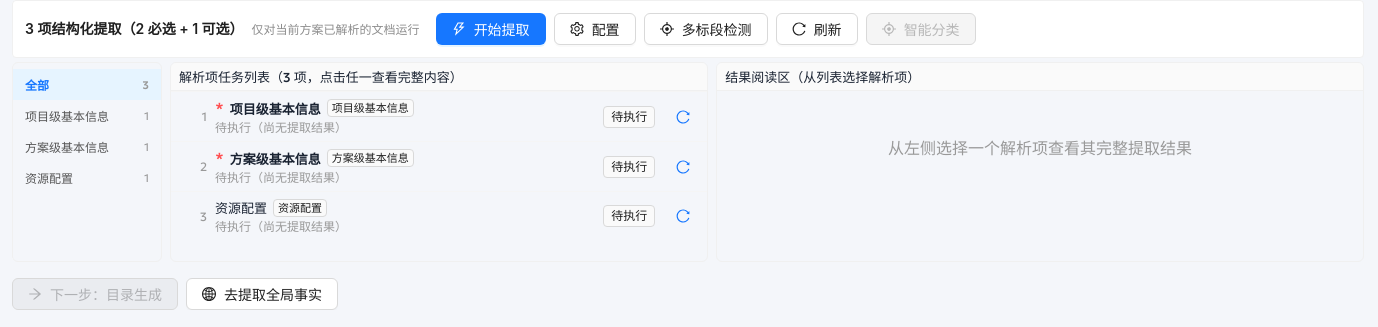
it: BidAnalysisTab › 点击分类→筛选该分类下解析项；点「全部」回退；序号保持全局口径
The width and height of the screenshot is (1378, 327).
expect the number of elements with class "ba-item-row" is 3: met, box [171, 91, 707, 141]; [171, 141, 707, 191]; [171, 191, 707, 240]
Click the button with class "ba-cat-item" showing "资源配置 1".
click(49, 178)  # box [25, 170, 149, 186]
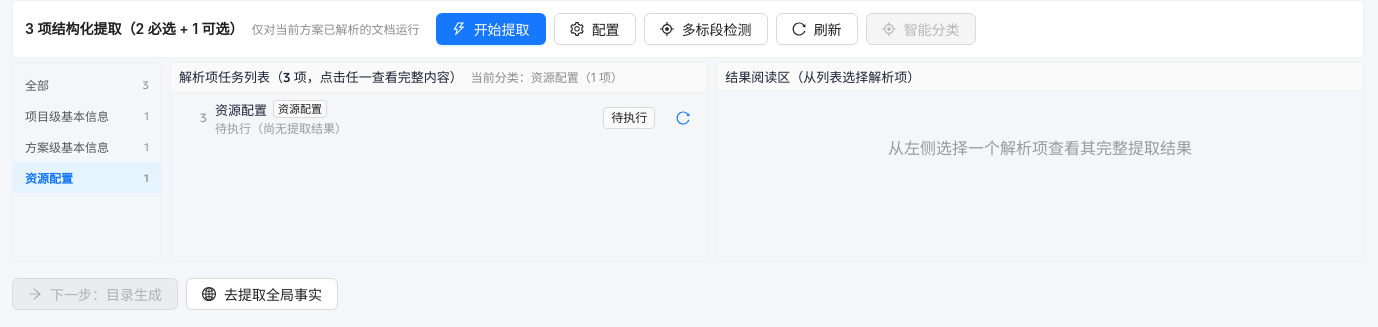
expect the text with class "ba-item-seq" reads "3": met, box [200, 110, 207, 125]
expect the number of elements with class "ba-item-row" is 1: met, box [171, 93, 707, 142]
expect the text "当前分类：资源配置（1 项）" is shown: met, box [471, 70, 623, 85]
回退「全部」恢复完整列表
Click the button with class "ba-cat-item" showing "全部 3".
click(37, 86)  # box [25, 78, 149, 93]
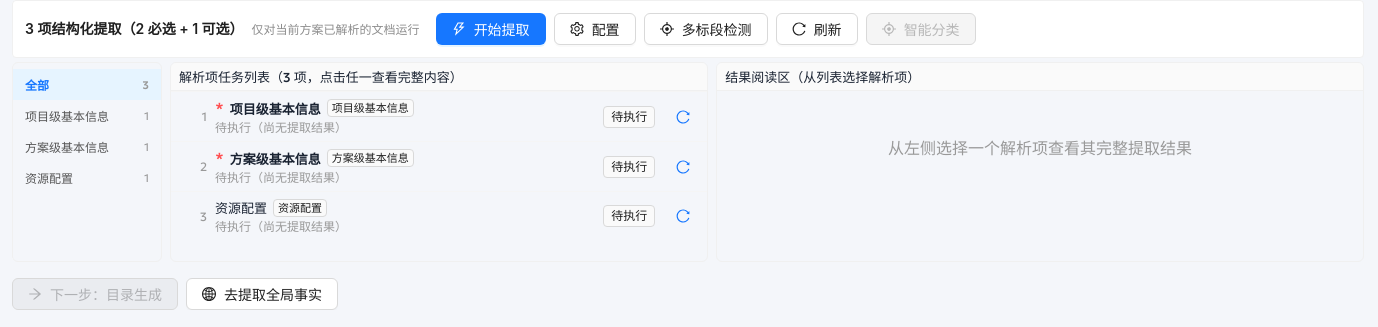
expect the number of elements with class "ba-item-row" is 3: met, box [171, 91, 707, 141]; [171, 141, 707, 191]; [171, 191, 707, 240]
